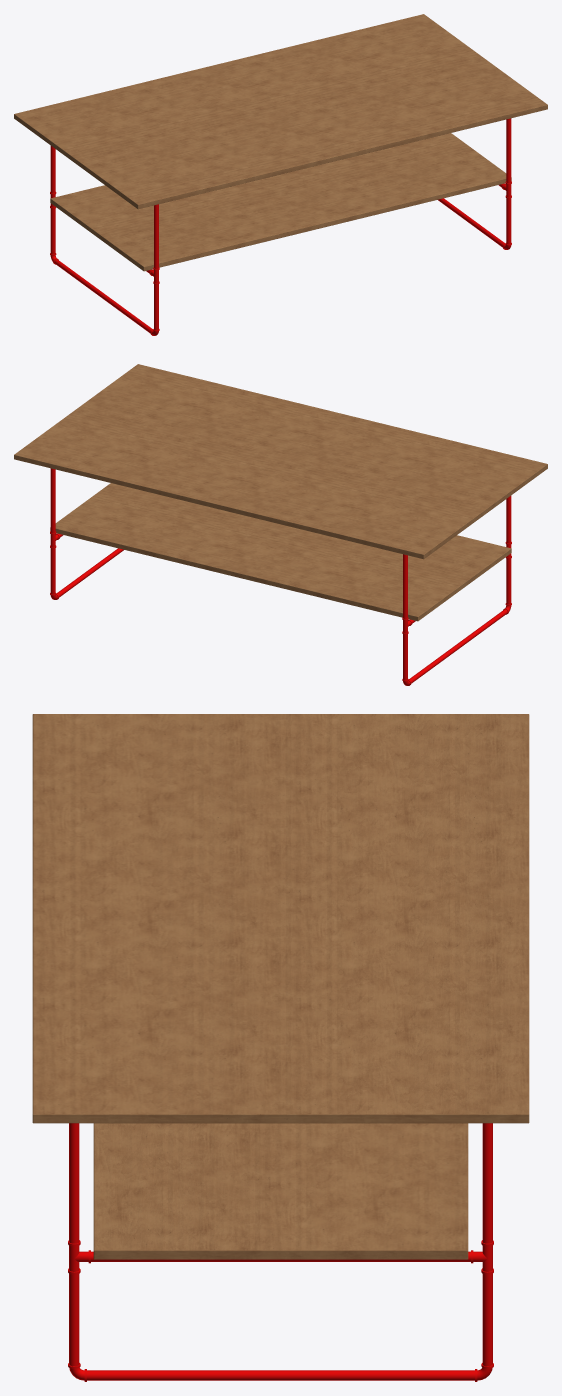
Rendered from LongTable.fbx.
3 views of the same model, one above another, from view 1: azimuth 30°, elevation 25°; view 2: azimuth 150°, elevation 25°; view 3: azimuth 270°, elevation 25° (orthographic). The views are drawn at different scales.
Parts seen in each view (by area): view 1: LongTable; view 2: LongTable; view 3: LongTable.
Boxes of the visible parts, x1=… form: LongTable: x1=14, y1=14, x2=547, y2=335; LongTable: x1=14, y1=364, x2=547, y2=685; LongTable: x1=32, y1=714, x2=529, y2=1381.
Bounding box in the file's own units: 233 × 80.11 × 122.
